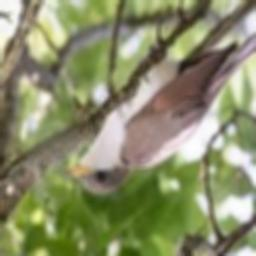Cuckoo: (59, 0, 256, 192)
